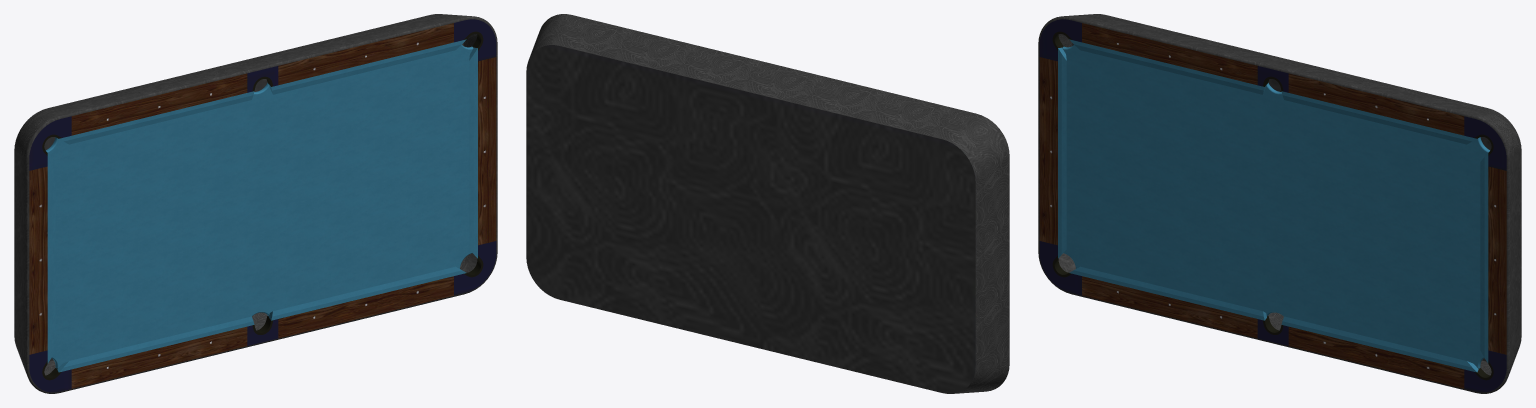
The model's file is pooltable.obj.
3 views of the same model, side by side, from view 1: azimuth 30°, elevation 25°; view 2: azimuth 150°, elevation 25°; view 3: azimuth 330°, elevation 25° (orthographic).
Bounding box in the file's own units: 2.9 × 1.63 × 0.254.
6 materials, 6 textured.
